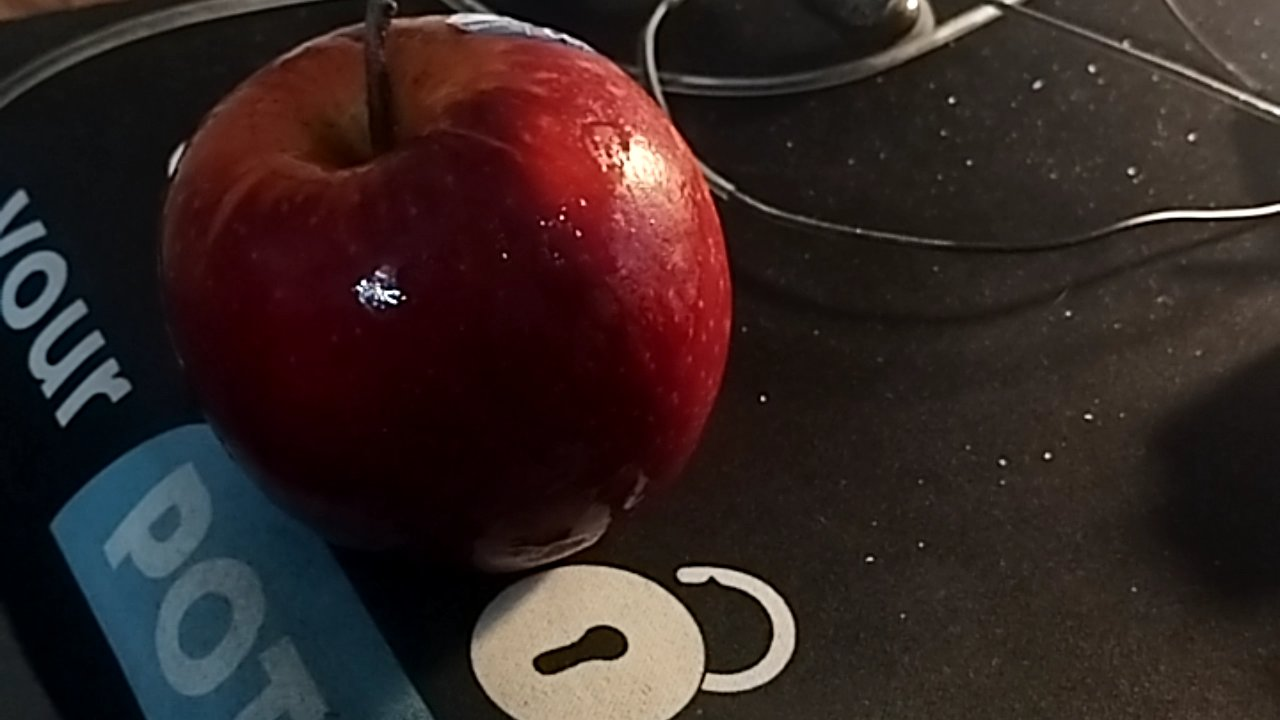apple_rotten: (154, 16, 741, 579)
